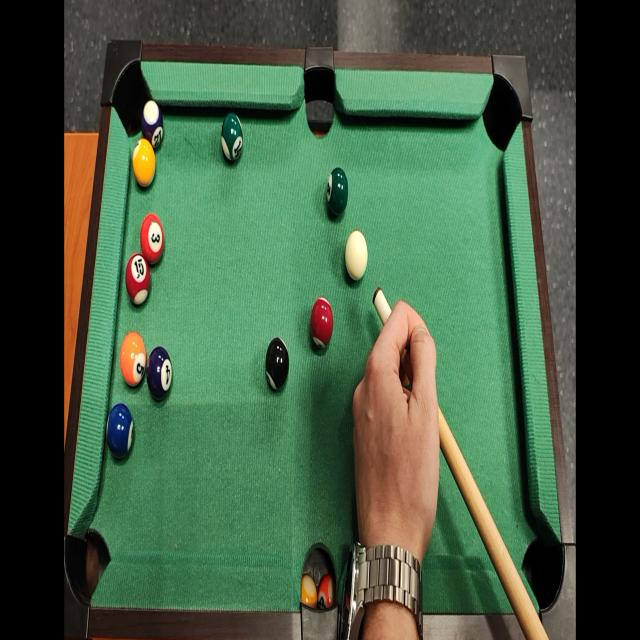cue ball: (342, 227, 371, 284)
other: (262, 332, 292, 397), (104, 405, 136, 464), (119, 330, 148, 390), (126, 250, 153, 312), (323, 164, 352, 221), (138, 209, 166, 265), (130, 136, 158, 190), (147, 345, 173, 403), (309, 294, 334, 352), (218, 113, 245, 165), (140, 101, 165, 152)
